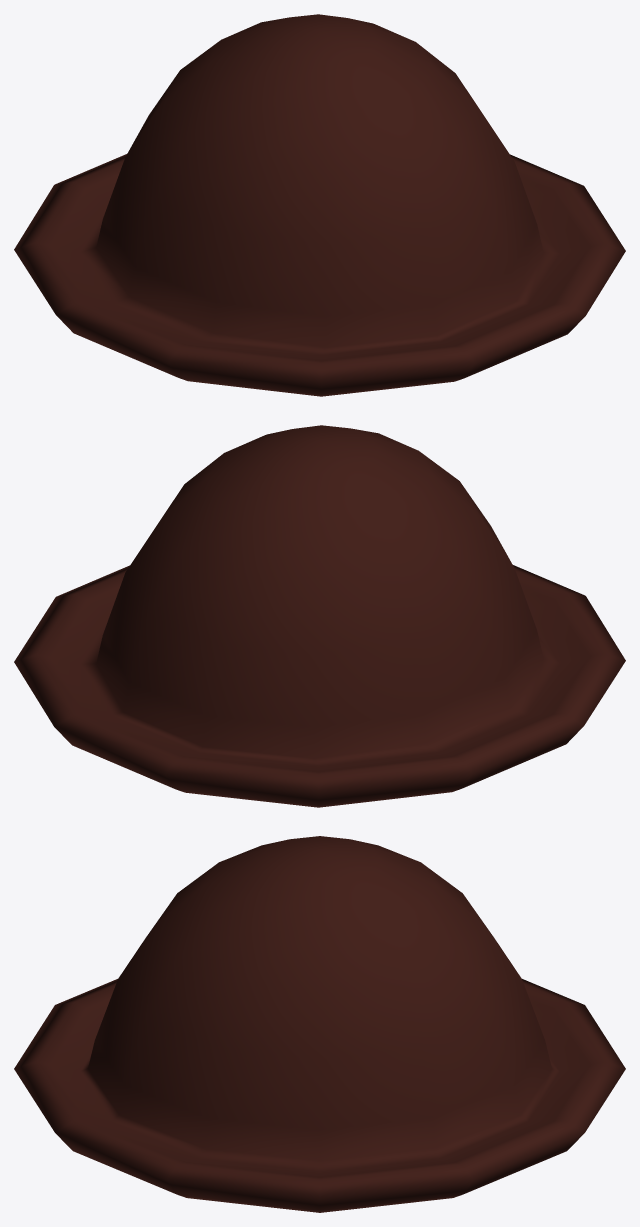
Rendered from Hat_Bowler.fbx.
3 views of the same model, one above another, from view 1: azimuth 30°, elevation 25°; view 2: azimuth 150°, elevation 25°; view 3: azimuth 270°, elevation 25° (orthographic).
Visible parts, largest first — view 1: Hat_Bowler; view 2: Hat_Bowler; view 3: Hat_Bowler.
Part boxes in pixels (box(x1,y1,x2,y2)): Hat_Bowler: box(14, 14, 625, 396); Hat_Bowler: box(14, 425, 625, 807); Hat_Bowler: box(14, 836, 625, 1212).
Bounding box in the file's own units: 1.16 × 0.5299 × 1.17.
